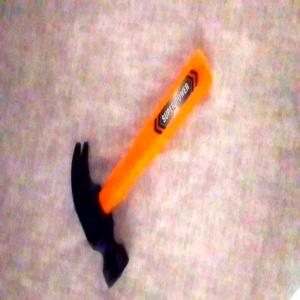martelo: (70, 46, 215, 290)
